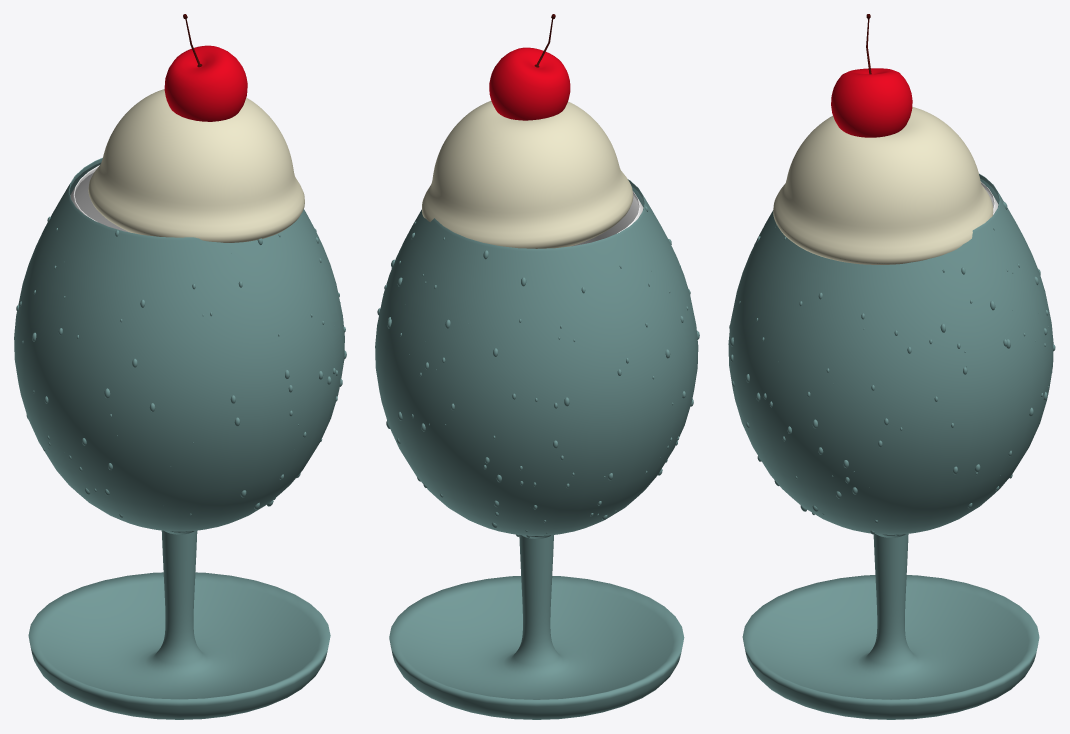
Rendered from sea.glb.
3 views of the same model, side by side, from view 1: azimuth 30°, elevation 25°; view 2: azimuth 150°, elevation 25°; view 3: azimuth 270°, elevation 25° (orthographic). The views are drawn at different scales.
Visible parts, largest first — view 1: ベジエカーブ.002; view 2: ベジエカーブ.002; view 3: ベジエカーブ.002.
Part boxes in pixels (box(x1,y1,x2,y2)): ベジエカーブ.002: box(14, 14, 346, 719); ベジエカーブ.002: box(375, 14, 699, 719); ベジエカーブ.002: box(728, 14, 1055, 719).
Size of the model in its own units: 1.64 by 3.63 by 1.64.
